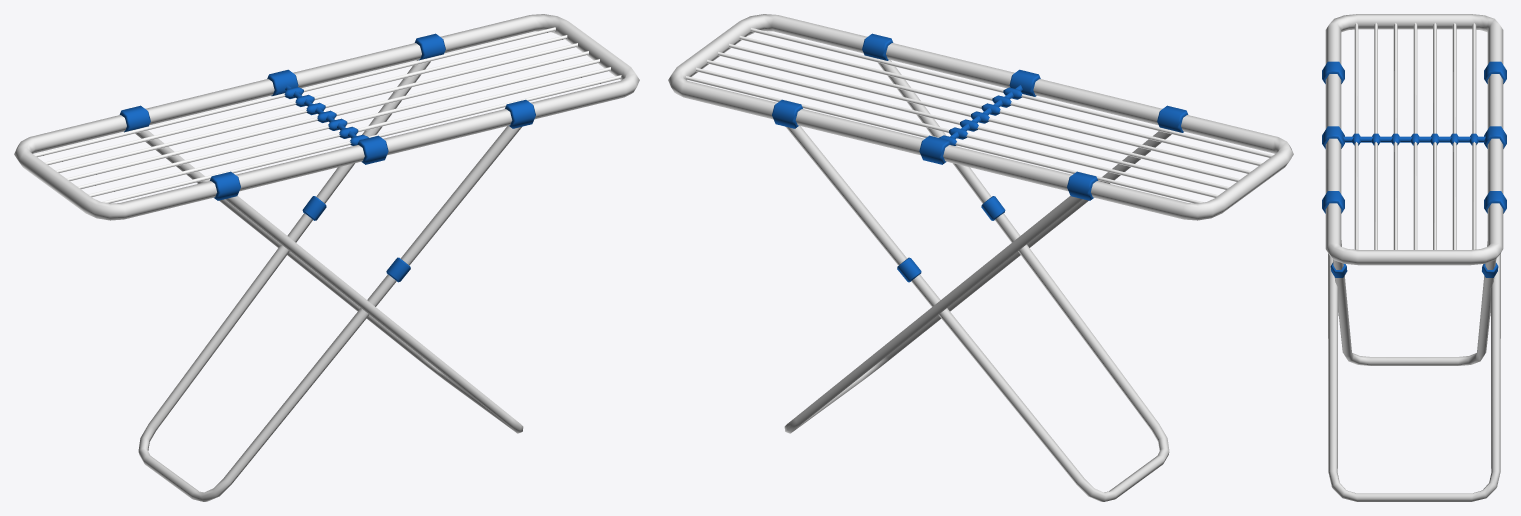
The model's file is bathroom_008.fbx.
3 views of the same model, side by side, from view 1: azimuth 30°, elevation 25°; view 2: azimuth 150°, elevation 25°; view 3: azimuth 270°, elevation 25° (orthographic). The views are drawn at different scales.
Parts seen in each view (by area): view 1: bathroom_008; view 2: bathroom_008; view 3: bathroom_008.
Boxes of the visible parts, <box> form: bathroom_008: <box>14,14,639,501</box>; bathroom_008: <box>668,14,1293,501</box>; bathroom_008: <box>1322,14,1506,501</box>.
Bounding box in the file's own units: 179 × 57.63 × 104.
